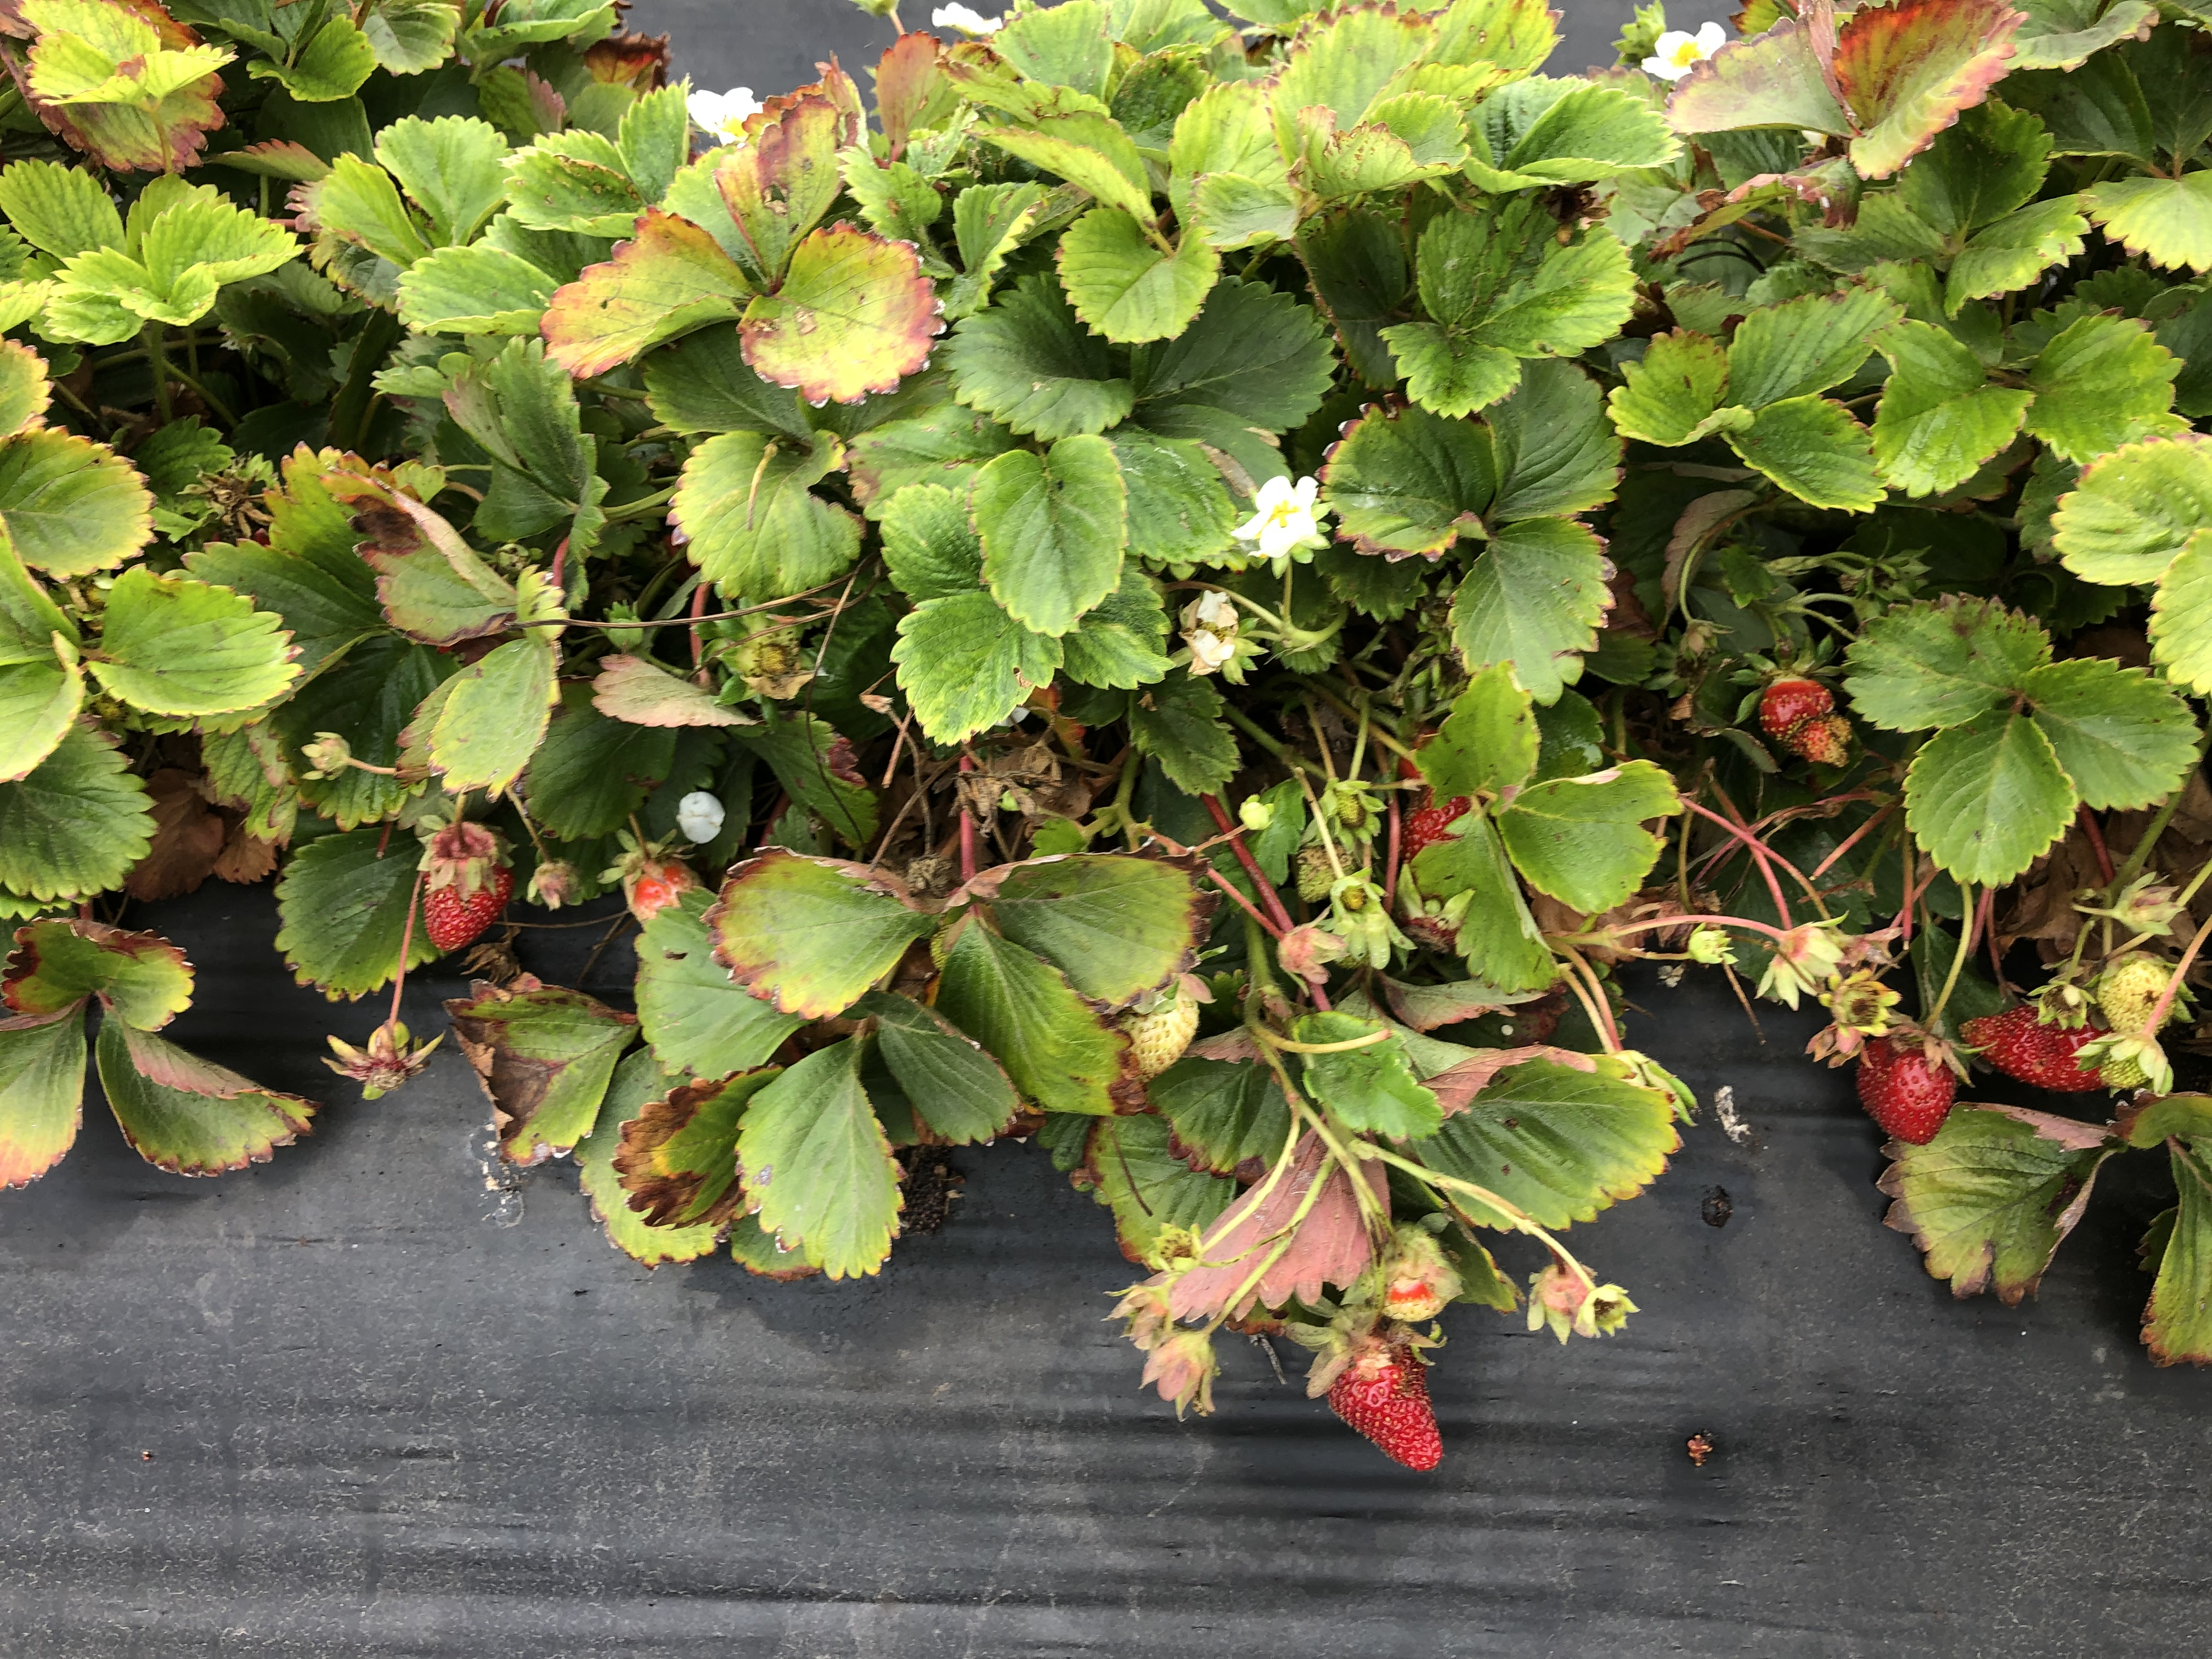ripe_strawberry: (1317, 1326, 1447, 1476), (1397, 728, 1474, 938), (1954, 1002, 2114, 1096), (1853, 1016, 1963, 1145), (421, 828, 519, 955), (1756, 662, 1851, 775)
unripe_strawberry: (1115, 976, 1207, 1080), (2101, 948, 2182, 1046), (620, 849, 705, 932), (1294, 835, 1353, 906), (2097, 1035, 2167, 1093)
